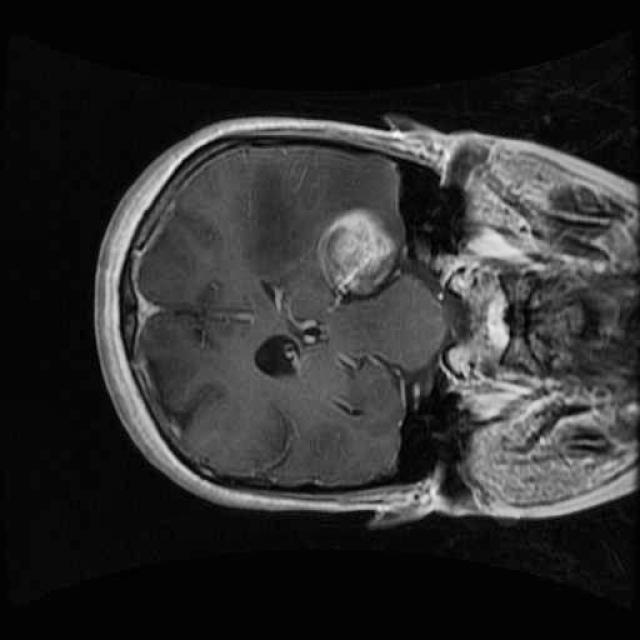Non-Tumor: (308, 198, 408, 312)
